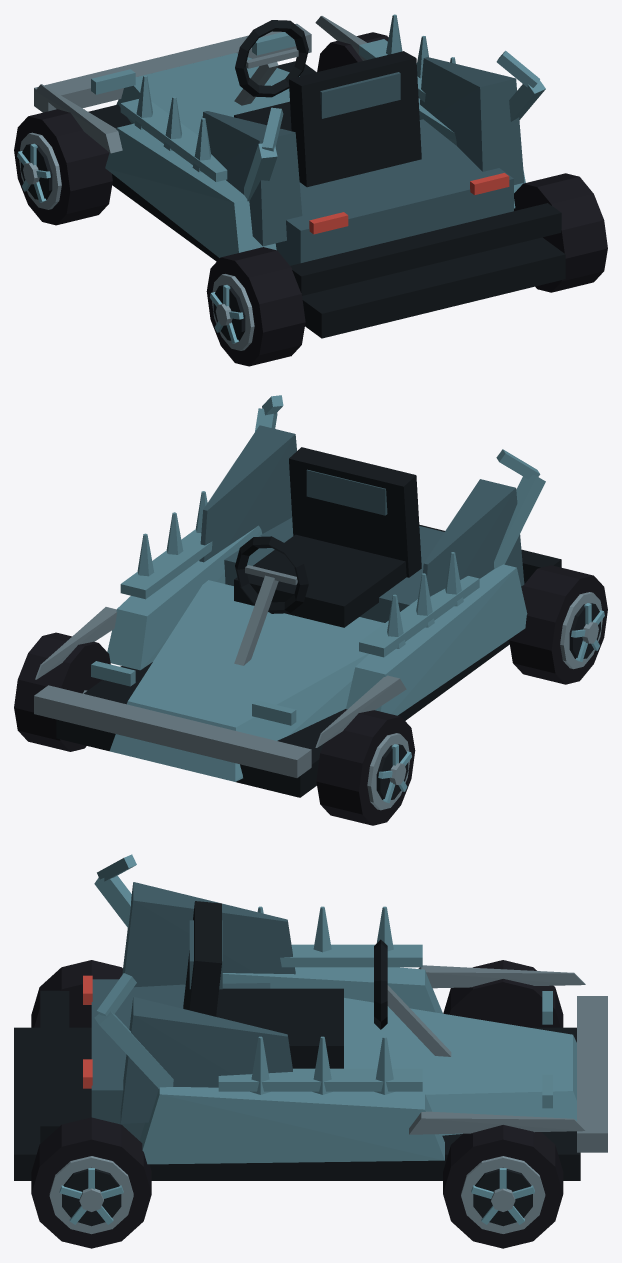
The model's file is kart.glb.
3 views of the same model, one above another, from view 1: azimuth 30°, elevation 25°; view 2: azimuth 150°, elevation 25°; view 3: azimuth 270°, elevation 25° (orthographic). The views are drawn at different scales.
Visible parts, largest first — view 1: chassis, wheel-rear-left, wheel-front-left, wheel-rear-right, wheel-front-right; view 2: chassis, wheel-rear-left, wheel-front-left, wheel-front-right; view 3: chassis, wheel-rear-right, wheel-front-right, wheel-front-left, wheel-rear-left.
Part boxes in pixels (x1,y1,x2,y2): chassis: [34, 14, 565, 338]; wheel-rear-left: [206, 247, 305, 366]; wheel-front-left: [14, 109, 112, 225]; wheel-rear-right: [514, 173, 607, 292]; wheel-front-right: [317, 32, 388, 71]; chassis: [34, 395, 561, 797]; wheel-rear-left: [509, 565, 607, 684]; wheel-front-left: [316, 709, 415, 825]; wheel-front-right: [14, 632, 110, 751]; chassis: [14, 854, 607, 1180]; wheel-rear-right: [31, 1117, 151, 1248]; wheel-front-right: [443, 1125, 563, 1248]; wheel-front-left: [443, 960, 563, 1027]; wheel-rear-left: [31, 960, 122, 1027].
Size of the model in its own units: 2.36 by 1.38 by 3.06.
